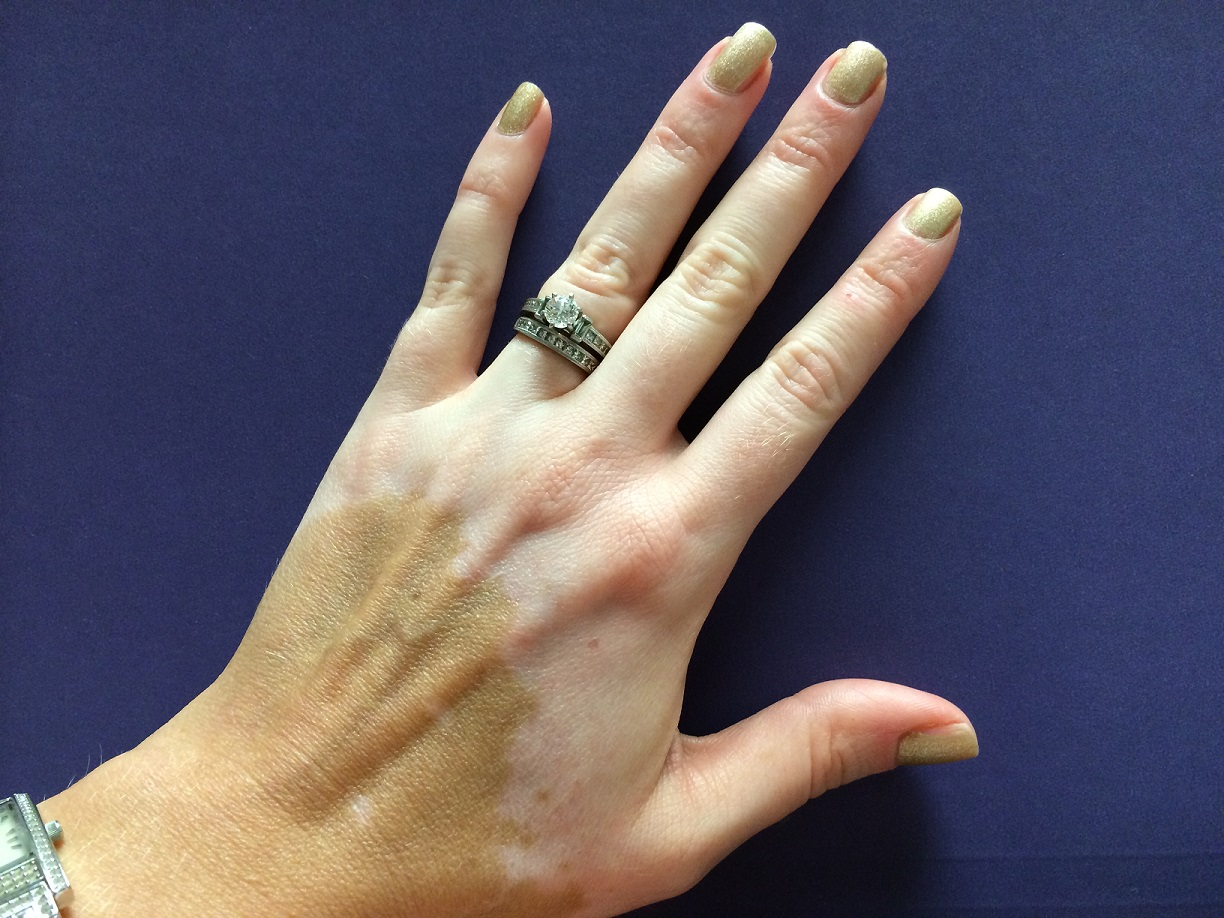vitiligo: (366, 236, 753, 871)
